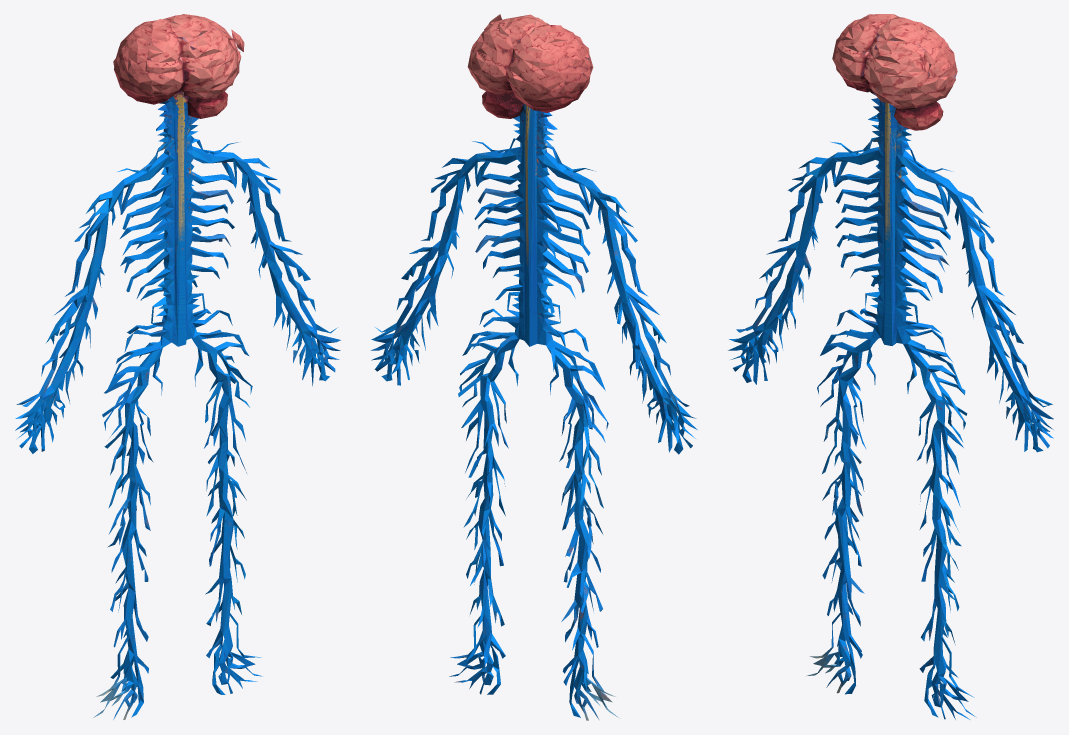
3 renders of one model, left to right at view 1: azimuth 30°, elevation 25°; view 2: azimuth 150°, elevation 25°; view 3: azimuth 330°, elevation 25°, orthographic.
Visible parts, largest first — view 1: node_0; view 2: node_0; view 3: node_0.
Boxes of the visible parts, x1,y1,x2,y2 form: node_0: (15,14,340,719); node_0: (370,14,697,720); node_0: (728,14,1053,719).
Size of the model in its own units: 0.5871 by 1.17 by 0.1528.
Materials: 1 (1 with a texture image).
